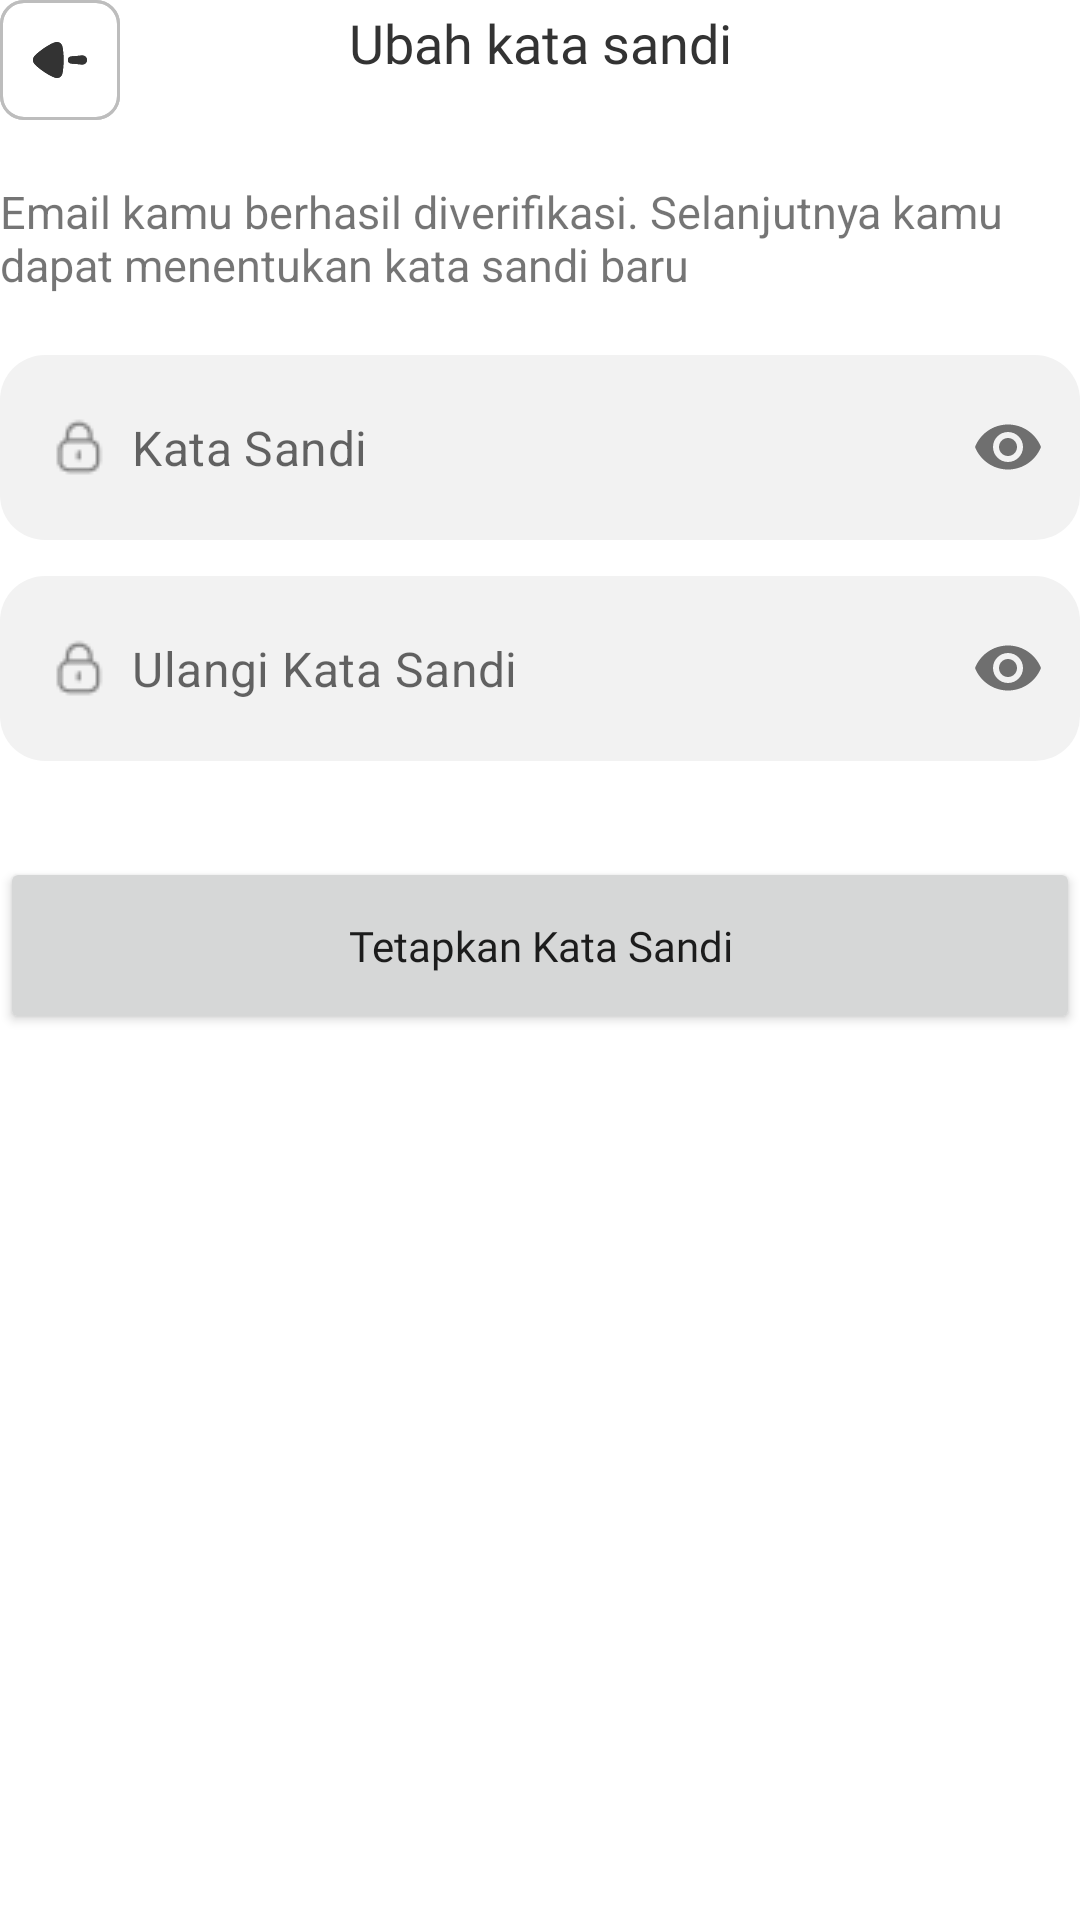

Icons on this 1080w x 1920h Android screen, each with its box as BBox(x1, y1, x2, y2):
back: BBox(0, 0, 120, 120)
